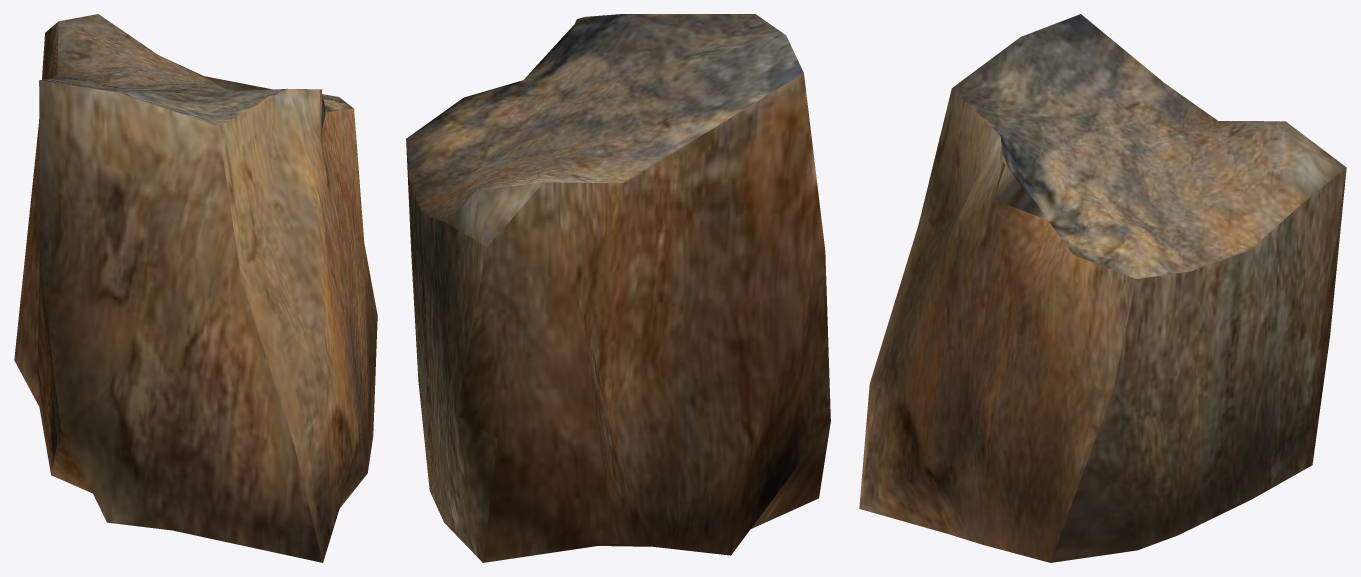
The model's file is namaqualand_boulder_03_lo.glb.
3 renders of one model, left to right at view 1: azimuth 30°, elevation 25°; view 2: azimuth 150°, elevation 25°; view 3: azimuth 270°, elevation 25°, orthographic. The views are drawn at different scales.
Visible parts, largest first — view 1: namaqualand_boulder_03_lo; view 2: namaqualand_boulder_03_lo; view 3: namaqualand_boulder_03_lo.
Boxes of the visible parts, x1,y1,x2,y2 form: namaqualand_boulder_03_lo: (14, 14, 377, 562); namaqualand_boulder_03_lo: (406, 14, 830, 562); namaqualand_boulder_03_lo: (859, 14, 1346, 562).
Size of the model in its own units: 0.7846 by 0.9665 by 0.9978.
1 material, 1 textured.
